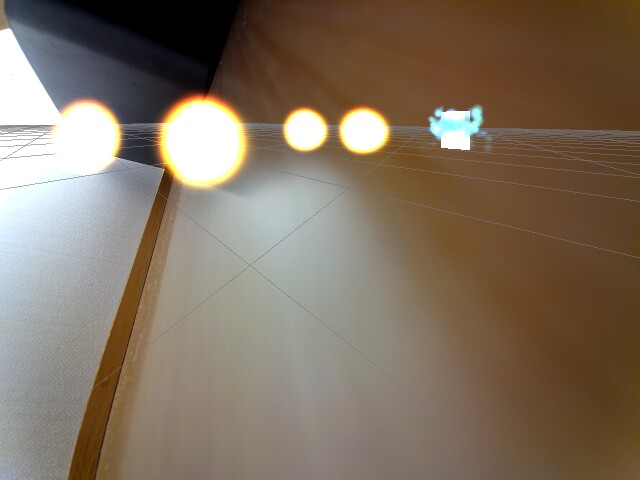firebig: (153, 95, 253, 191)
